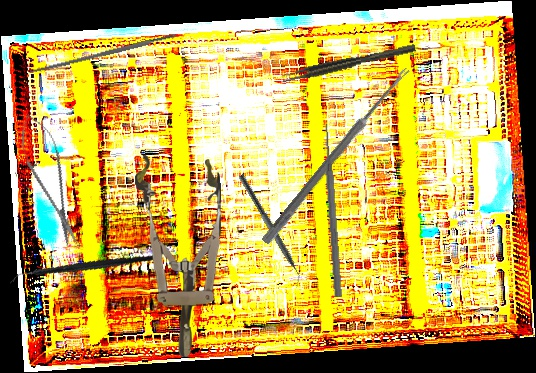Chopper: (9, 223, 157, 316), (231, 173, 308, 289)
Micro Scissor: (10, 108, 90, 252)
Pusher: (320, 123, 345, 298)
Scalpel Handle: (29, 32, 178, 76)
Speculum: (134, 152, 227, 359)
Surgical Spoon: (261, 64, 411, 247)
Tissue Forceps: (281, 43, 417, 85)
